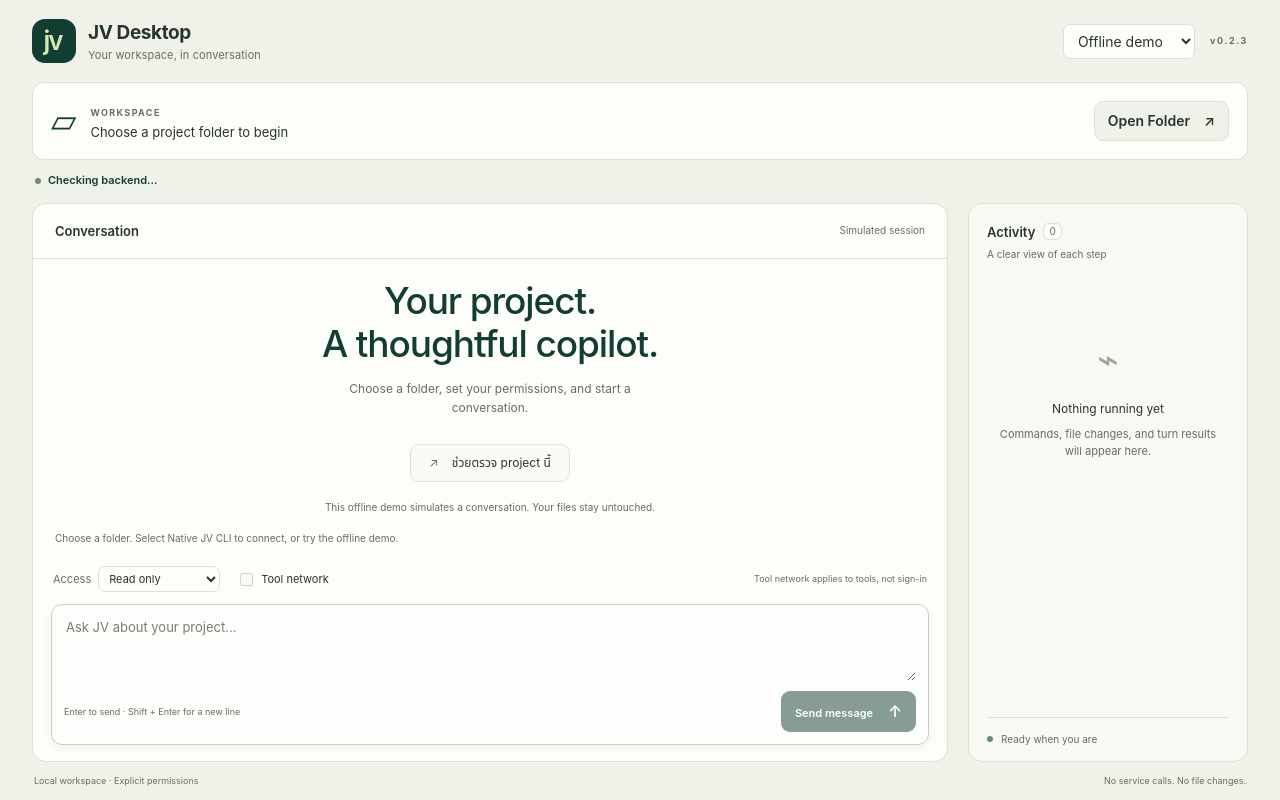
Test: workspace and conversation › disables networking in read-only mode and preserves explicit write permissions
Expected: the checkbox labelled "Tool network" is disabled, left=240, top=573, right=253, bottom=586
Expected: the checkbox labelled "Tool network" is not checked, left=240, top=573, right=253, bottom=586
Select "Workspace write" in the dropdown named "Workspace permission" at (159, 579), box left=98, top=566, right=220, bottom=592
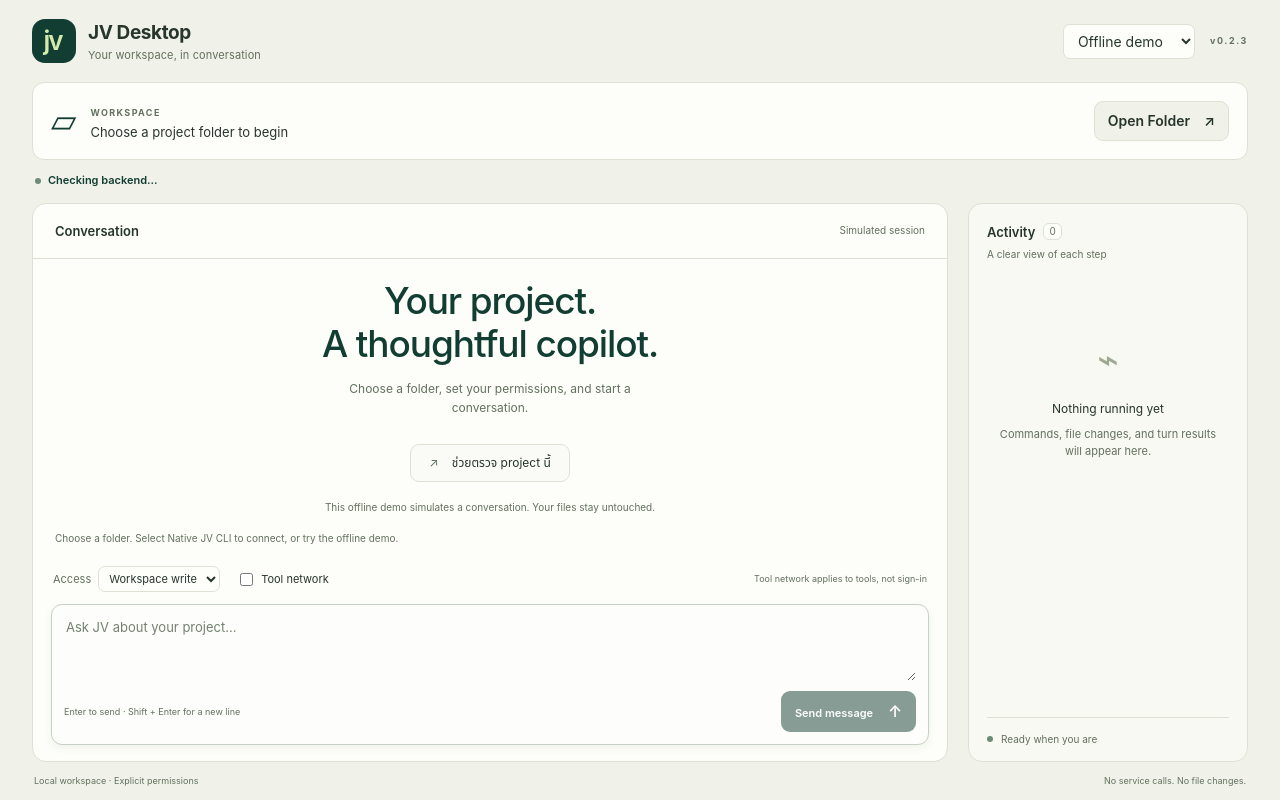
Click the checkbox labelled "Tool network" at (247, 579), box left=240, top=573, right=253, bottom=586
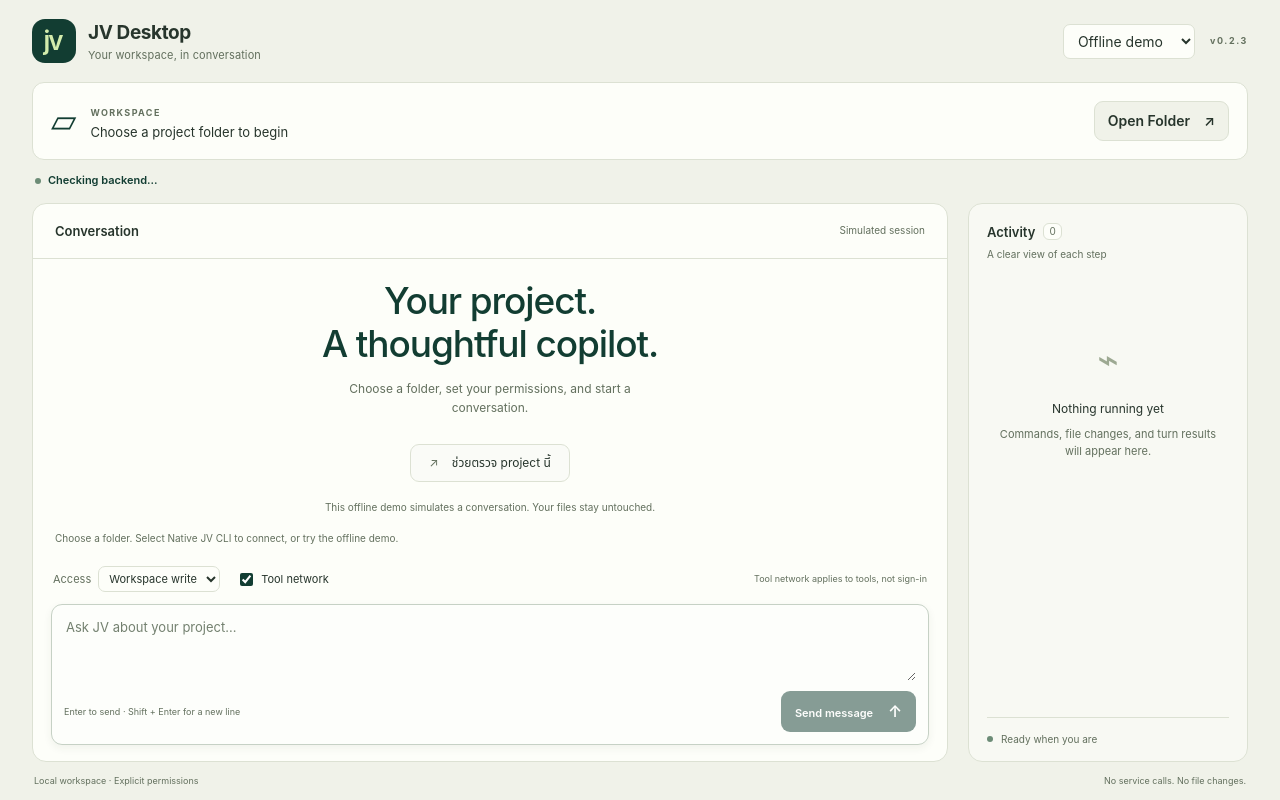
Expected: the checkbox labelled "Tool network" is checked, left=240, top=573, right=253, bottom=586
Select "Read only" in the dropdown named "Workspace permission" at (159, 579), box left=98, top=566, right=220, bottom=592
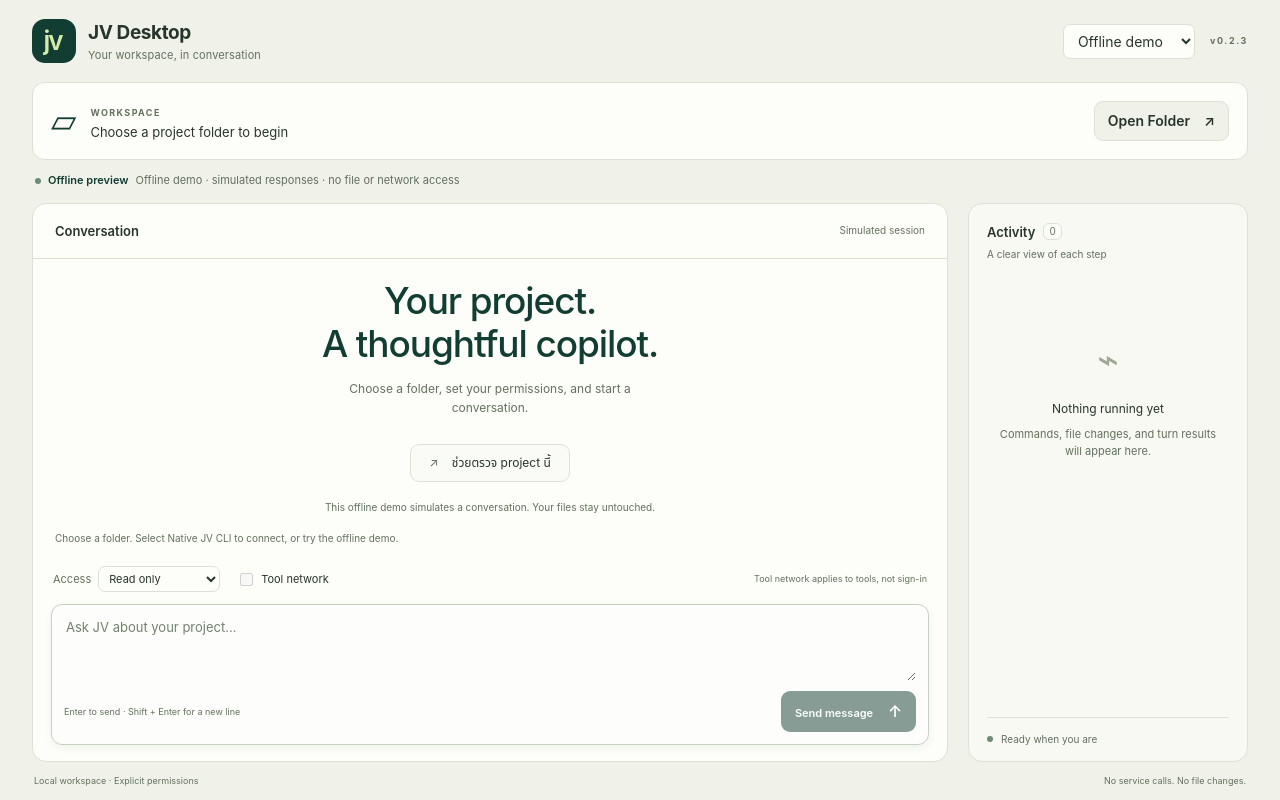
Expected: the checkbox labelled "Tool network" is not checked, left=240, top=573, right=253, bottom=586
Expected: the checkbox labelled "Tool network" is disabled, left=240, top=573, right=253, bottom=586
